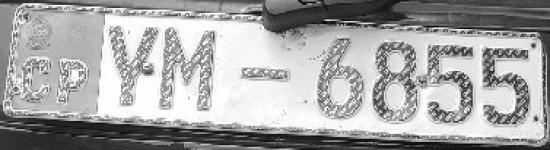-: (234, 62, 298, 91)
5: (478, 38, 535, 132), (425, 37, 478, 131)
6: (307, 30, 370, 124)
8: (369, 32, 424, 129)
C: (15, 52, 54, 107)
M: (161, 22, 219, 121)
P: (52, 52, 91, 109)
Y: (104, 17, 161, 111)
